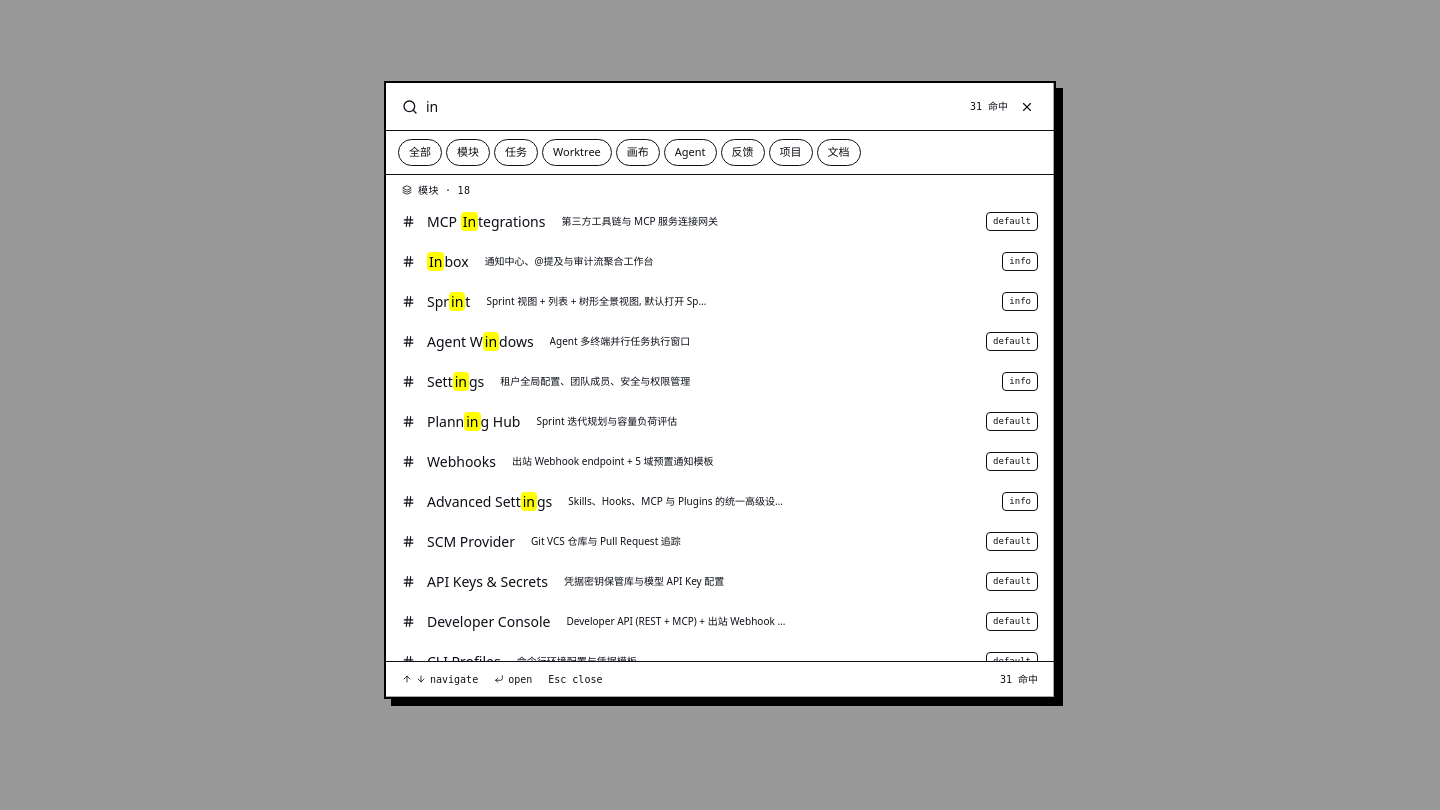
Test: CommandBar (per DRIFT-α-020 fix) › C. 输入 query 过滤, 0 命中时显示空态
Replace the text in the field with test id "command-bar-input" with "zzzzz-no-match-zzzzz" at (694, 106), box x1=426 y1=96 x2=962 y2=116
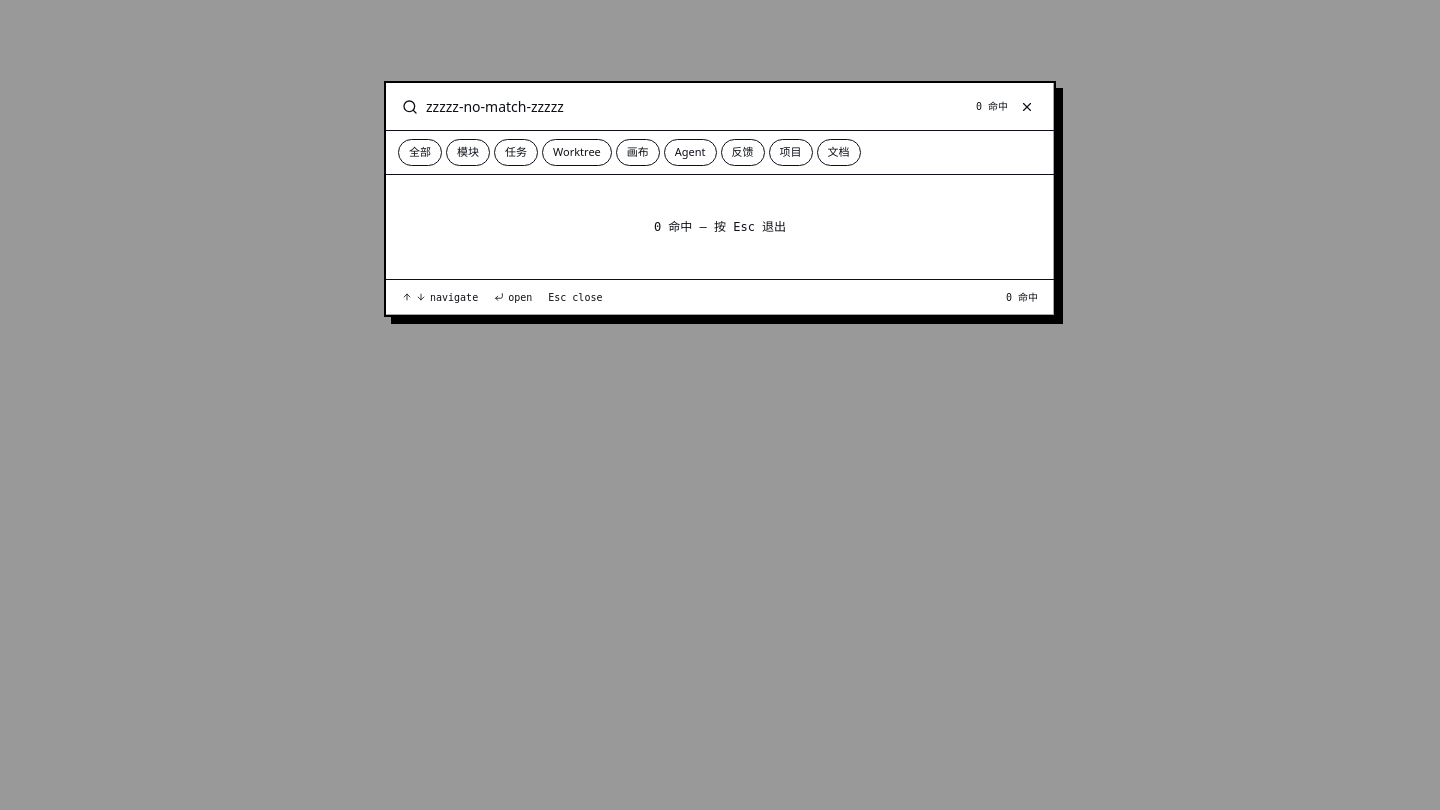
Expected: the 1st text "0 命中" is shown, x1=976 y1=99 x2=1008 y2=114
